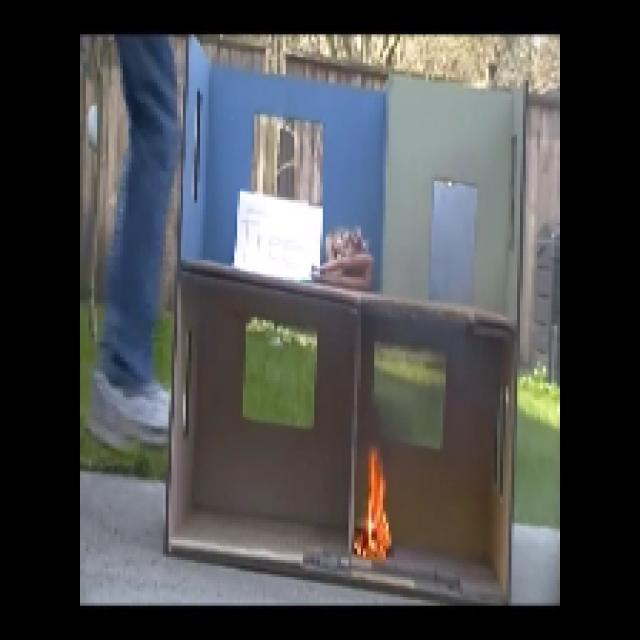Fire: (355, 432, 398, 550)
